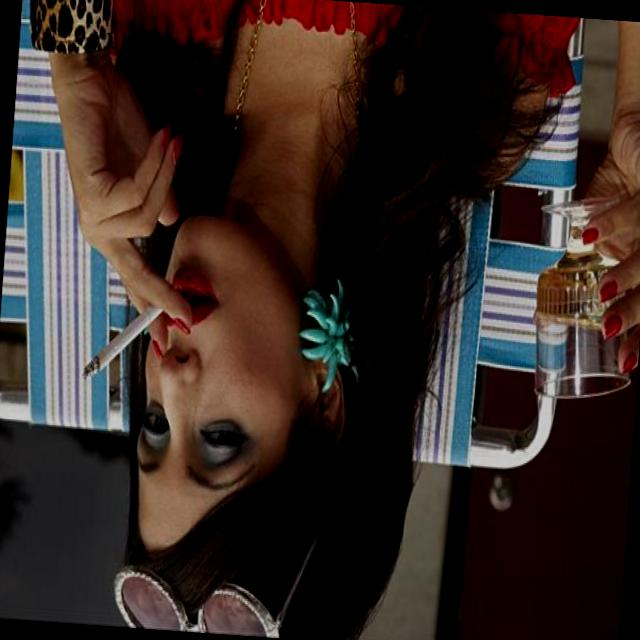cigarette: (76, 276, 182, 393)
